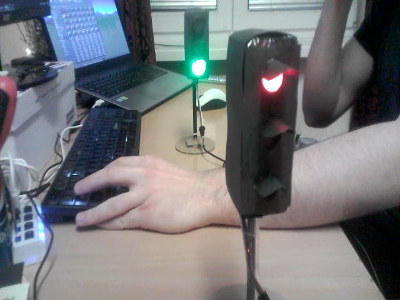trafficlight_green: (185, 11, 210, 75)
trafficlight_red: (249, 42, 292, 208)
